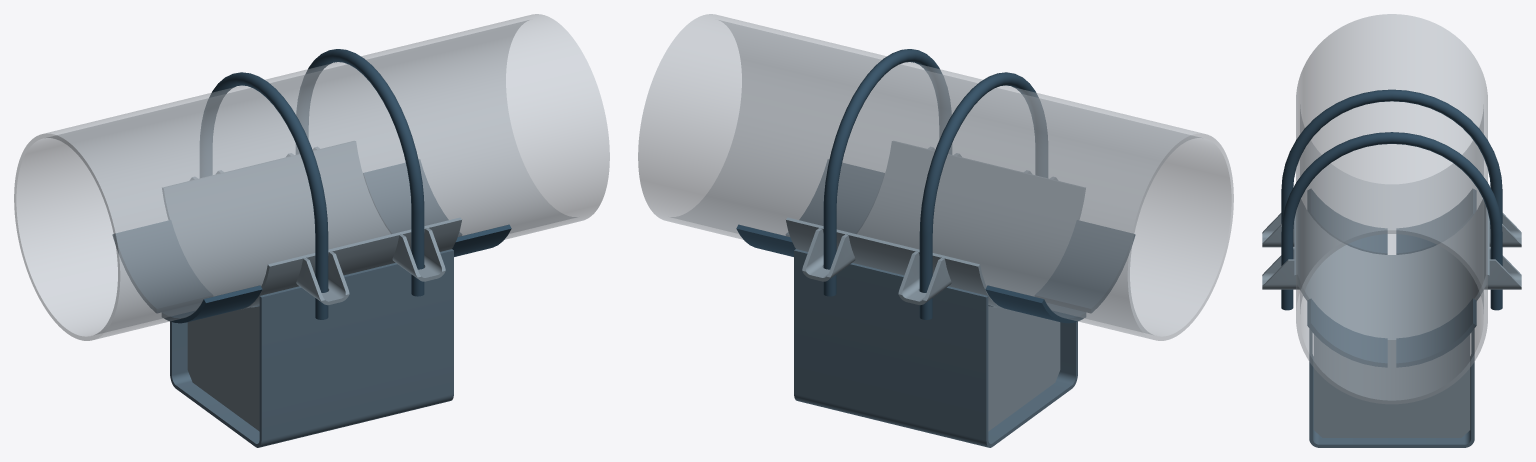
The model's file is TS-670.00.00-26-opora-dn325-H200.glb.
The picture shows the model from 3 angles, left to right: view 1: azimuth 30°, elevation 25°; view 2: azimuth 150°, elevation 25°; view 3: azimuth 270°, elevation 25°; orthographic projection. The views are drawn at different scales.
Parts seen in each view (by area): view 1: truba, skoba_1, podushka_0, rebro_2, upor_-1_1, homut_-1, homut_1, upor_1_1, upor_-1_-1, ushko_6, ushko_8, upor_1_-1; view 2: truba, skoba_1, podushka_0, rebro_2, upor_-1_-1, homut_-1, homut_1, upor_1_-1, upor_-1_1, ushko_5, ushko_7, upor_1_1; view 3: truba, podushka_0, rebro_4, homut_1, homut_-1, skoba_1, upor_1_1, upor_1_-1, upor_-1_1, upor_-1_-1, ushko_5, ushko_6 (+2 smaller).
Boxes of the visible parts, <box> form: truba: <box>14,14,609,340</box>; skoba_1: <box>170,249,453,447</box>; podushka_0: <box>162,141,461,309</box>; rebro_2: <box>187,306,259,431</box>; upor_-1_1: <box>112,220,212,312</box>; homut_-1: <box>200,72,328,319</box>; homut_1: <box>296,49,424,296</box>; upor_1_1: <box>363,159,461,236</box>; upor_-1_-1: <box>162,285,262,323</box>; ushko_6: <box>392,228,445,281</box>; ushko_8: <box>296,251,349,305</box>; upor_1_-1: <box>452,224,511,256</box>; truba: <box>638,14,1233,340</box>; skoba_1: <box>794,249,1077,447</box>; podushka_0: <box>786,141,1085,309</box>; rebro_2: <box>988,306,1060,431</box>; upor_-1_-1: <box>1035,220,1135,312</box>; homut_-1: <box>919,72,1047,319</box>; homut_1: <box>823,49,951,296</box>; upor_1_-1: <box>786,159,884,236</box>; upor_-1_1: <box>985,285,1085,323</box>; ushko_5: <box>802,228,855,281</box>; ushko_7: <box>898,251,951,305</box>; upor_1_1: <box>736,224,795,256</box>; truba: <box>1296,14,1487,404</box>; podushka_0: <box>1294,200,1489,343</box>; rebro_4: <box>1313,334,1470,437</box>; homut_1: <box>1281,132,1502,310</box>; homut_-1: <box>1281,89,1502,223</box>; skoba_1: <box>1309,329,1474,447</box>; upor_1_1: <box>1396,298,1476,367</box>; upor_1_-1: <box>1307,298,1387,367</box>; upor_-1_1: <box>1396,189,1476,254</box>; upor_-1_-1: <box>1307,189,1387,254</box>; ushko_5: <box>1484,247,1521,289</box>; ushko_6: <box>1262,247,1299,289</box>.
Size of the model in its own units: 865 by 549 by 438.
